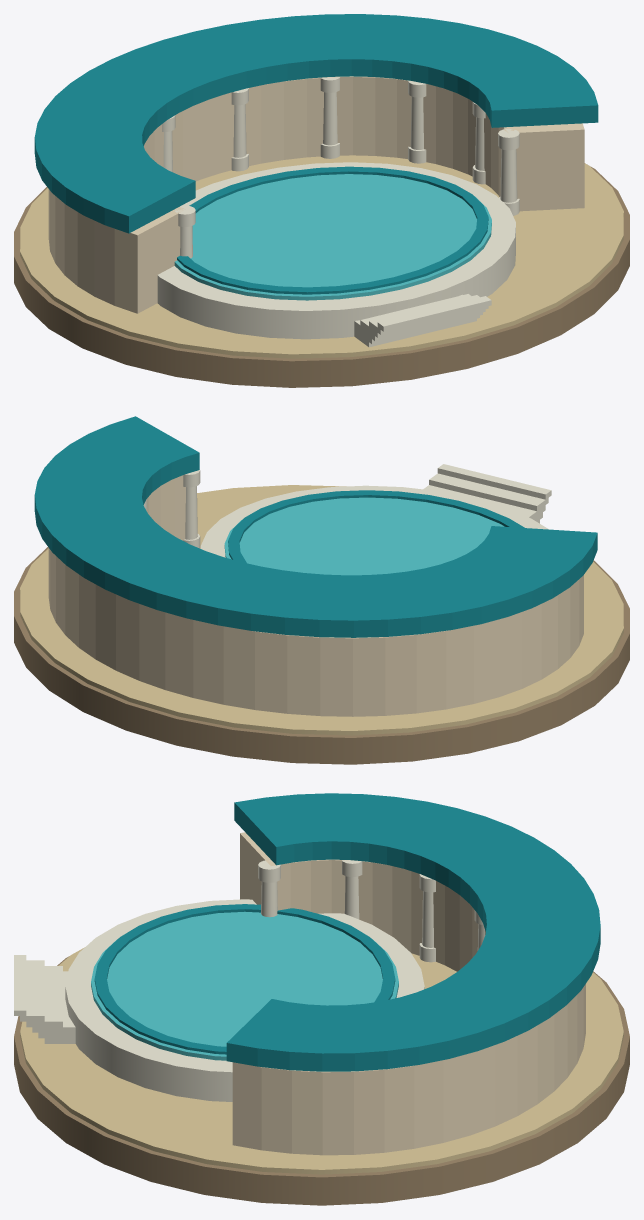
The model's file is recovery-center-lv1.glb.
The picture shows the model from 3 angles, top to bottom: view 1: azimuth 30°, elevation 25°; view 2: azimuth 150°, elevation 25°; view 3: azimuth 270°, elevation 25°; orthographic projection. The views are drawn at different scales.
Parts seen in each view (by area): view 1: crescent_roof_aqua, crescent_bathhouse_cream, water_pool, foundation_sand, foundation_stoneDark, pool_terrace_white, body_white, pool_mosaic_aqua, pool_steps_white; view 2: crescent_roof_aqua, crescent_bathhouse_cream, foundation_sand, foundation_stoneDark, water_pool, pool_steps_white, pool_terrace_white, pool_mosaic_aqua, body_white; view 3: crescent_roof_aqua, crescent_bathhouse_cream, water_pool, foundation_sand, foundation_stoneDark, pool_terrace_white, pool_mosaic_aqua, pool_steps_white, body_white.
Part boxes in pixels (<box>): crescent_roof_aqua: <box>34,14,598,233</box>; crescent_bathhouse_cream: <box>48,76,584,313</box>; water_pool: <box>174,174,491,300</box>; foundation_sand: <box>20,155,623,358</box>; foundation_stoneDark: <box>14,164,629,387</box>; pool_terrace_white: <box>157,162,515,339</box>; body_white: <box>162,77,519,258</box>; pool_mosaic_aqua: <box>177,166,488,294</box>; pool_steps_white: <box>354,294,491,347</box>; crescent_roof_aqua: <box>34,416,597,637</box>; crescent_bathhouse_cream: <box>48,475,583,716</box>; foundation_sand: <box>20,485,623,735</box>; foundation_stoneDark: <box>14,547,629,764</box>; water_pool: <box>224,497,504,575</box>; pool_steps_white: <box>423,464,551,523</box>; pool_terrace_white: <box>200,485,548,557</box>; pool_mosaic_aqua: <box>228,490,524,563</box>; body_white: <box>143,470,200,548</box>; crescent_roof_aqua: <box>226,793,600,1071</box>; crescent_bathhouse_cream: <box>232,832,585,1155</box>; water_pool: <box>91,911,398,1060</box>; foundation_sand: <box>20,947,623,1174</box>; foundation_stoneDark: <box>14,956,629,1205</box>; pool_terrace_white: <box>65,899,424,1101</box>; pool_mosaic_aqua: <box>94,904,395,1054</box>; pool_steps_white: <box>14,955,75,1043</box>; body_white: <box>258,860,485,962</box>.
Size of the model in its own units: 1 by 0.2335 by 0.9231.
